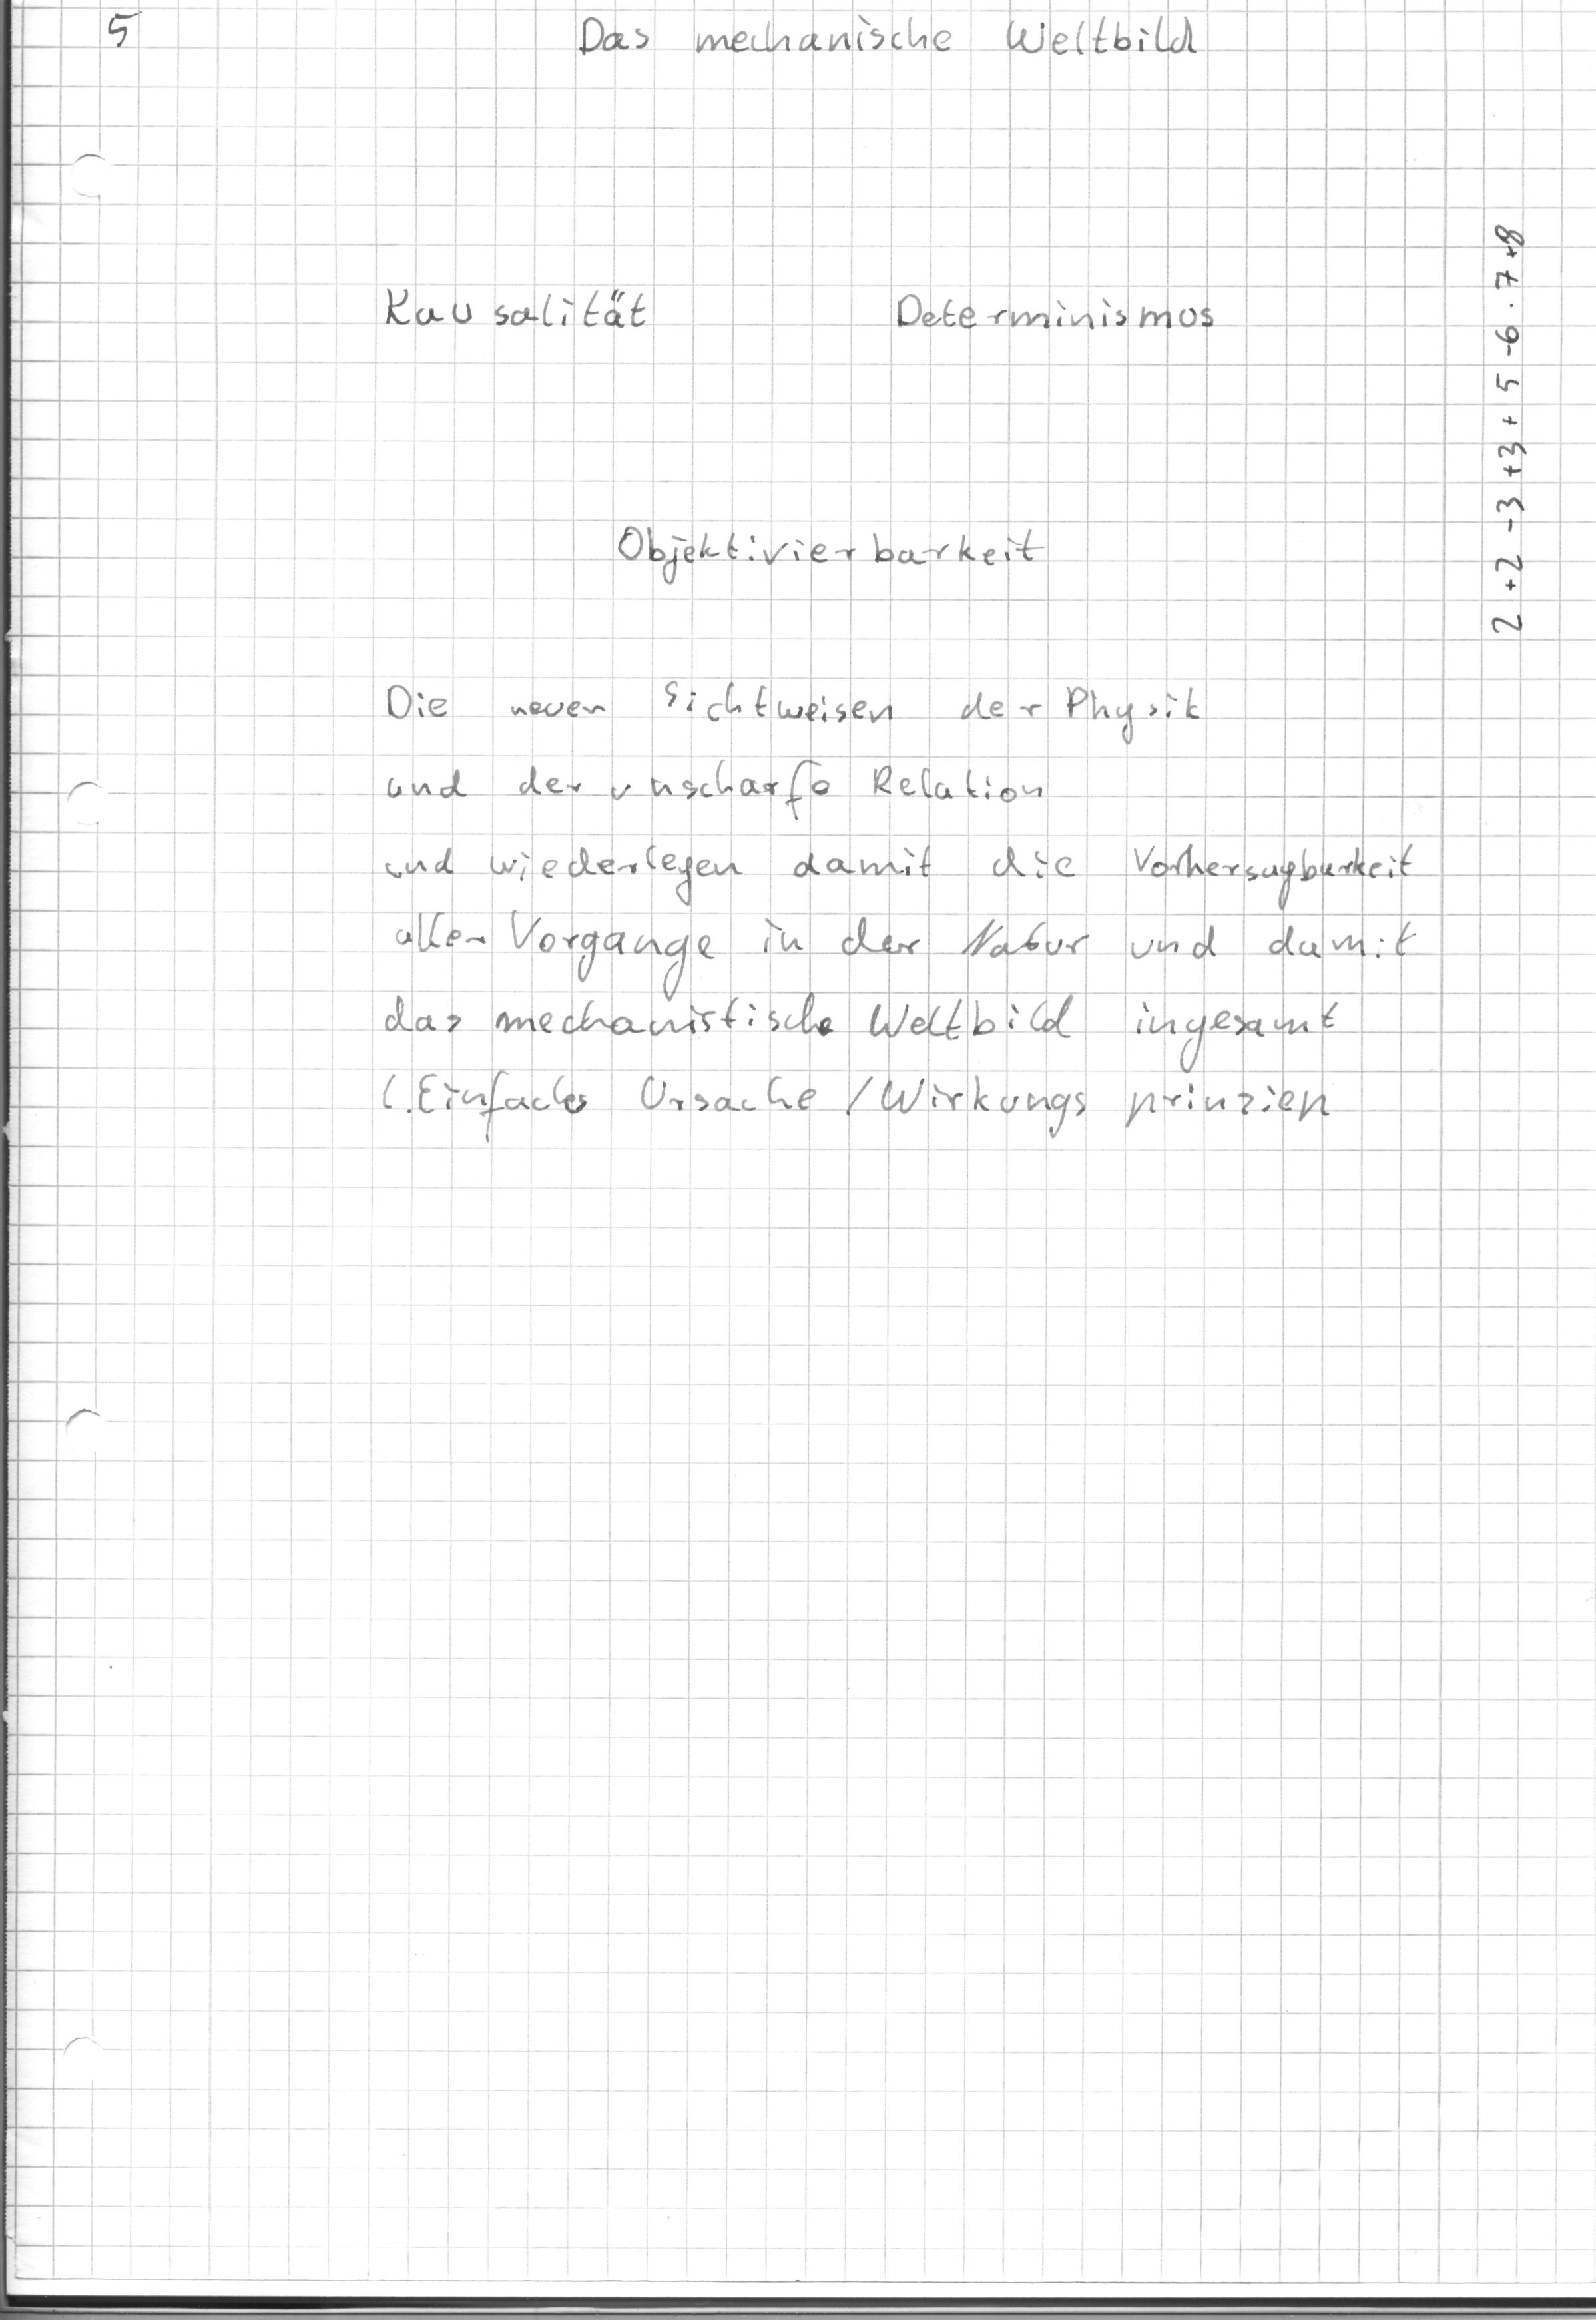word: (375, 826, 1418, 1148), (365, 659, 1213, 825), (589, 484, 1066, 616), (575, 1, 1218, 82), (879, 250, 1221, 366), (368, 259, 668, 369)
